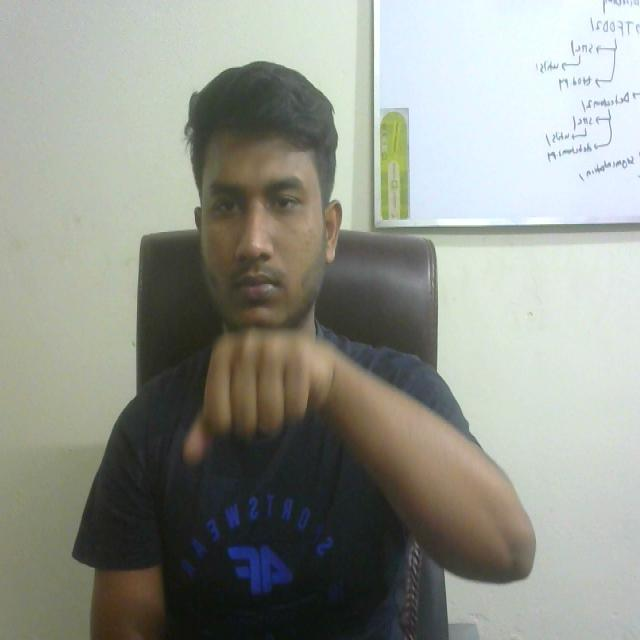I: (167, 306, 356, 490)
